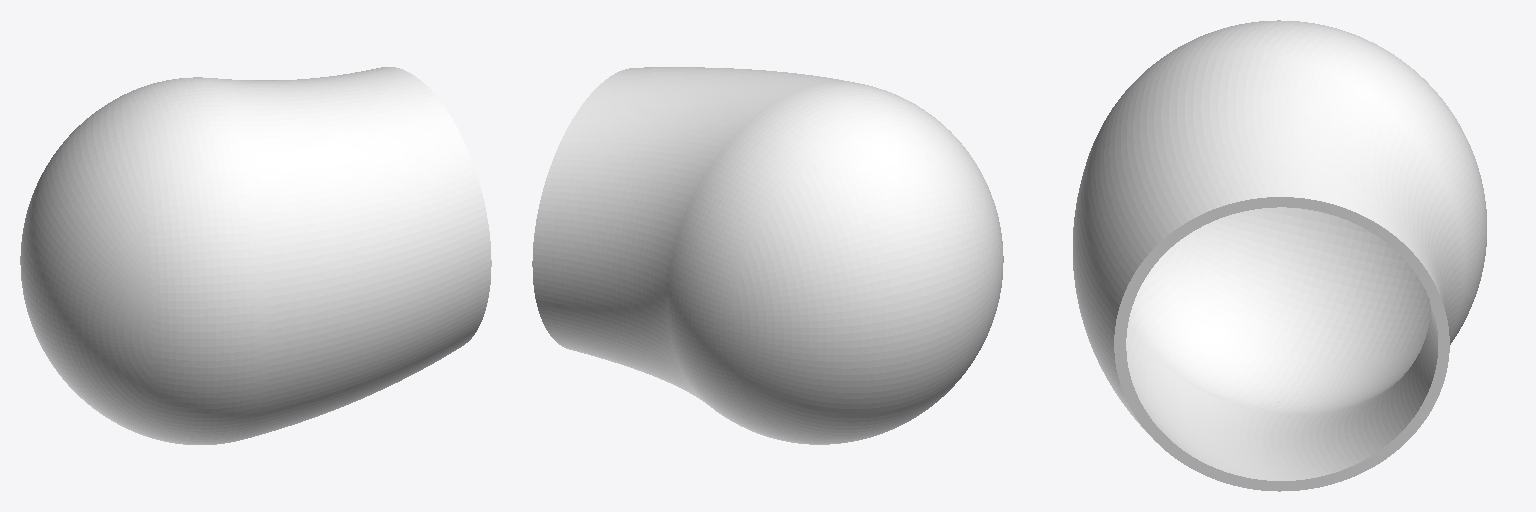
URDF robot description (cube.urdf):
<?xml version="0.0" ?>
<robot name="cube.urdf">
  <link name="baseLink">
    <contact>
      <lateral_friction value="0.3"/>
      <stiffness value="10000.0"/>
    </contact>
    <inertial>
      <origin rpy="0 0 0" xyz="0 0 0"/>
       <mass value="0.1"/>
       <inertia ixx="1" ixy="0" ixz="0" iyy="1" iyz="0" izz="1"/>
    </inertial>
    <visual>
      <origin rpy="0 0 0" xyz="0 0 0"/>
      <geometry>
            <mesh filename="eggplant_left.stl" scale="0.001 0.001 0.001"/>
      </geometry>
       <material name="white">
        <color rgba="1 1 1 1"/>
      </material>
    </visual>
    <collision>
      <origin rpy="0 0 0" xyz="0 0 0"/>
      <geometry>
	 	<mesh filename="eggplant_left.stl" scale="0.001 0.001 0.001"/>
      </geometry>
    </collision>
  </link>  
</robot>

--- Facts derived from the render (not from the file) ---
Views: 3 orthographic renders of the robot side by side, from view 1: azimuth 30°, elevation 25°; view 2: azimuth 150°, elevation 25°; view 3: azimuth 270°, elevation 25°.
Model cube.urdf with 1 links and 0 joints (none), rooted at baseLink, posed every joint at zero.
Links seen in each view (by area): view 1: baseLink; view 2: baseLink; view 3: baseLink.
Link boxes in pixels (bbox=[...]): baseLink: bbox=[20, 67, 491, 444]; baseLink: bbox=[532, 67, 1003, 444]; baseLink: bbox=[1073, 20, 1486, 491].
Size in the robot's own frame: 0.0612 by 0.0526 by 0.0523 metres.
Meshes: 1 distinct files referenced, 1 mesh visuals loaded (1 binary STL).